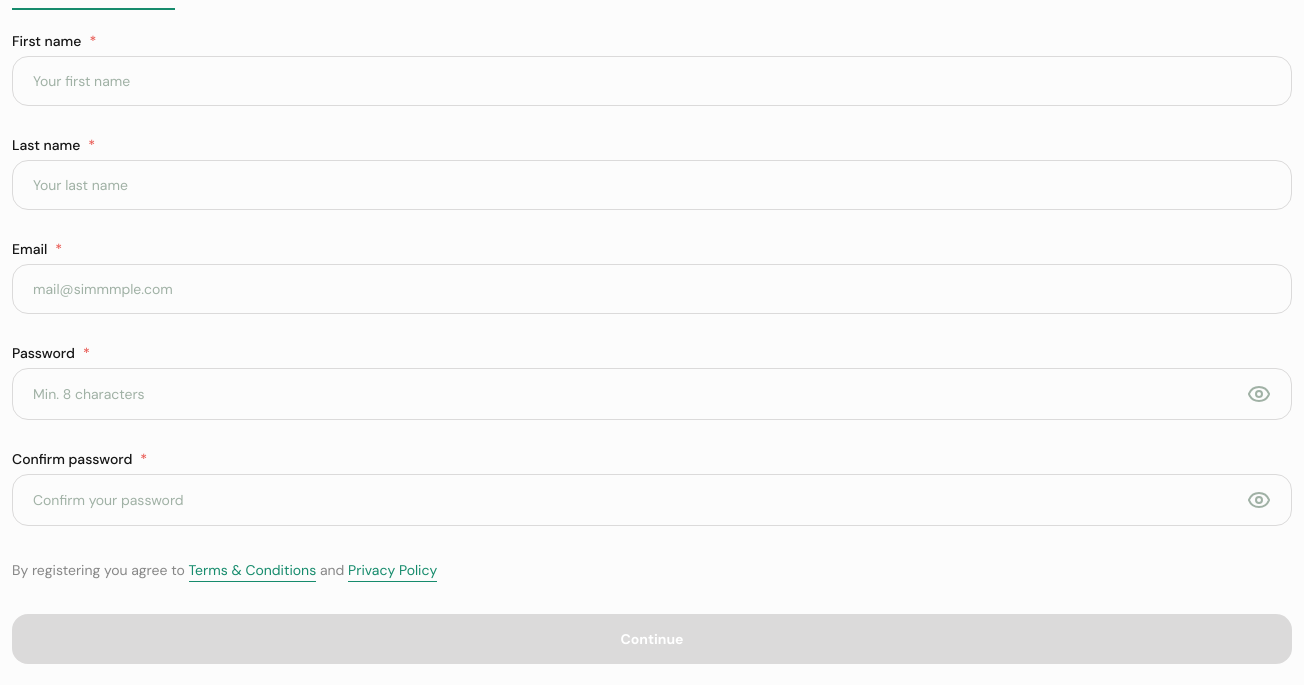
it: SignUpForm › shows validation errors on empty submit
(page scrolled)
Click the button "Continue": (652, 639) [12,614,1292,664]
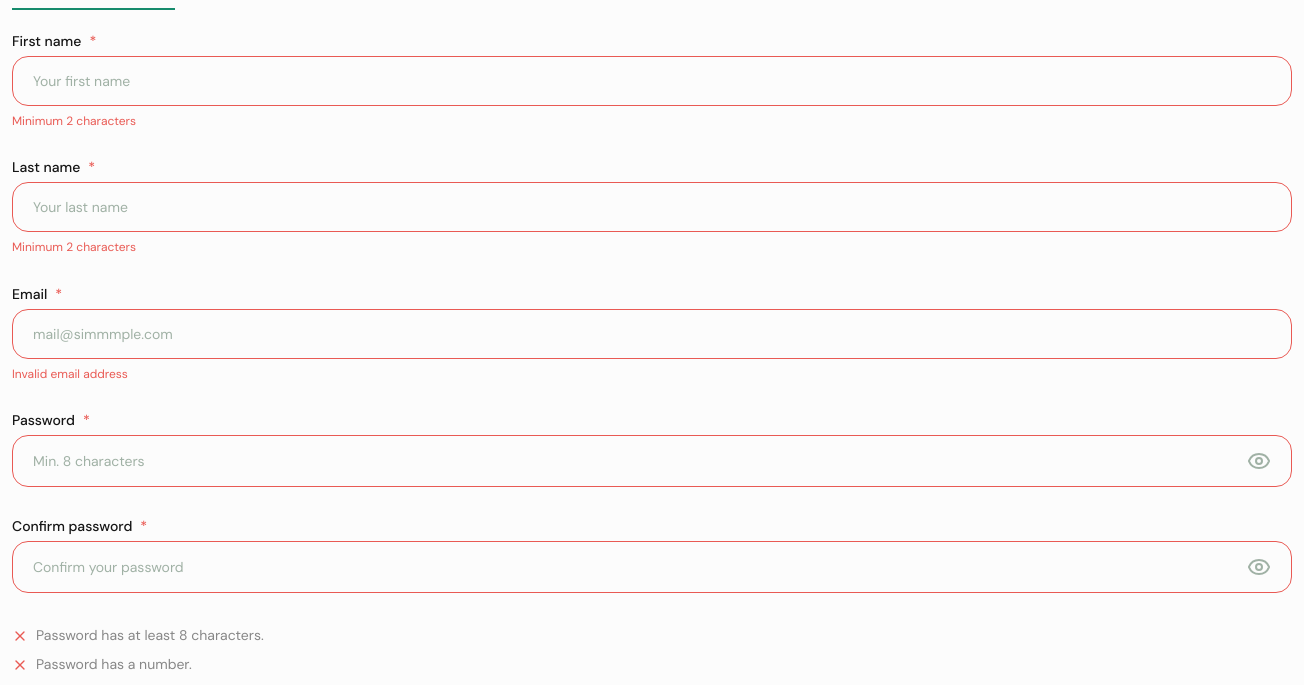
Check: the text "Invalid email address" is shown, box [12,367,128,381]
